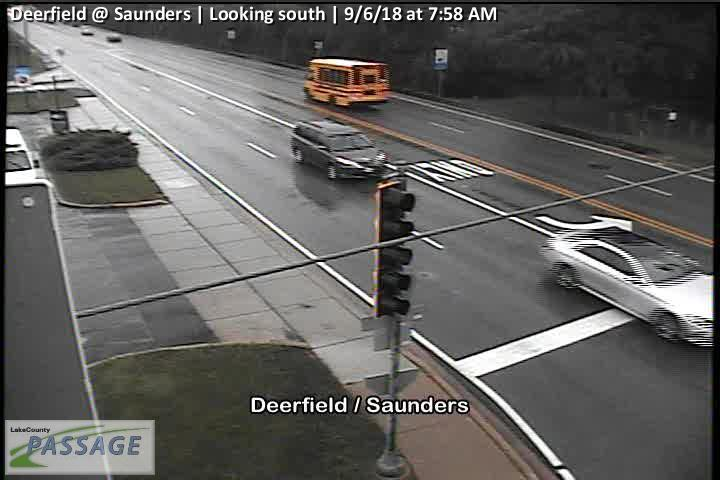Bus: (304, 57, 392, 107)
SUV: (290, 117, 388, 184)
Sedan: (540, 225, 720, 348)
